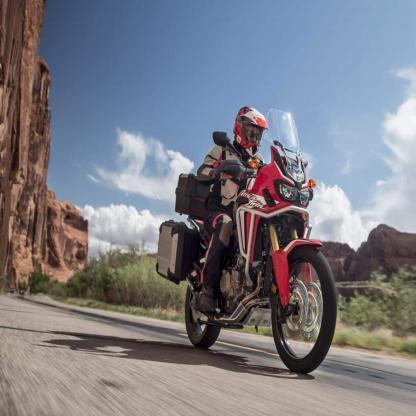helmet: (233, 105, 270, 158)
